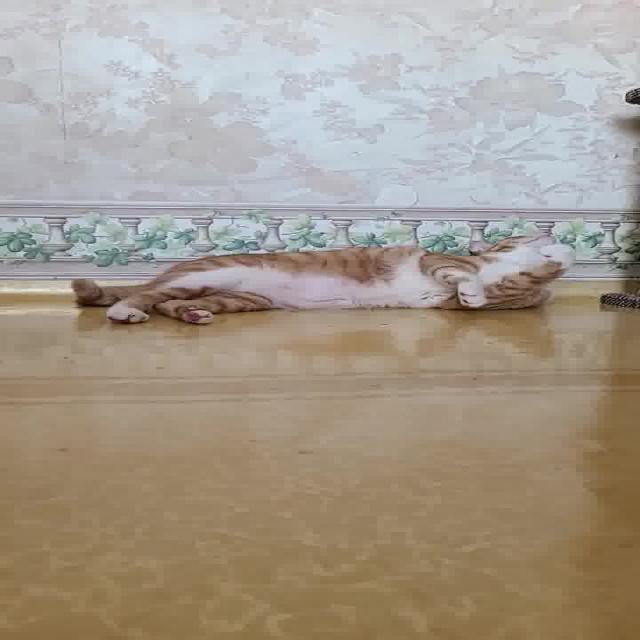cat: (43, 218, 591, 337)
